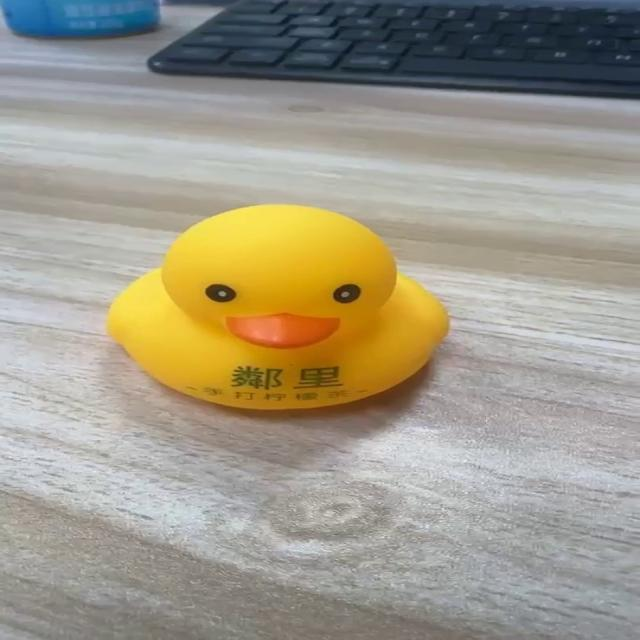yellow_duck: (103, 202, 450, 411)
